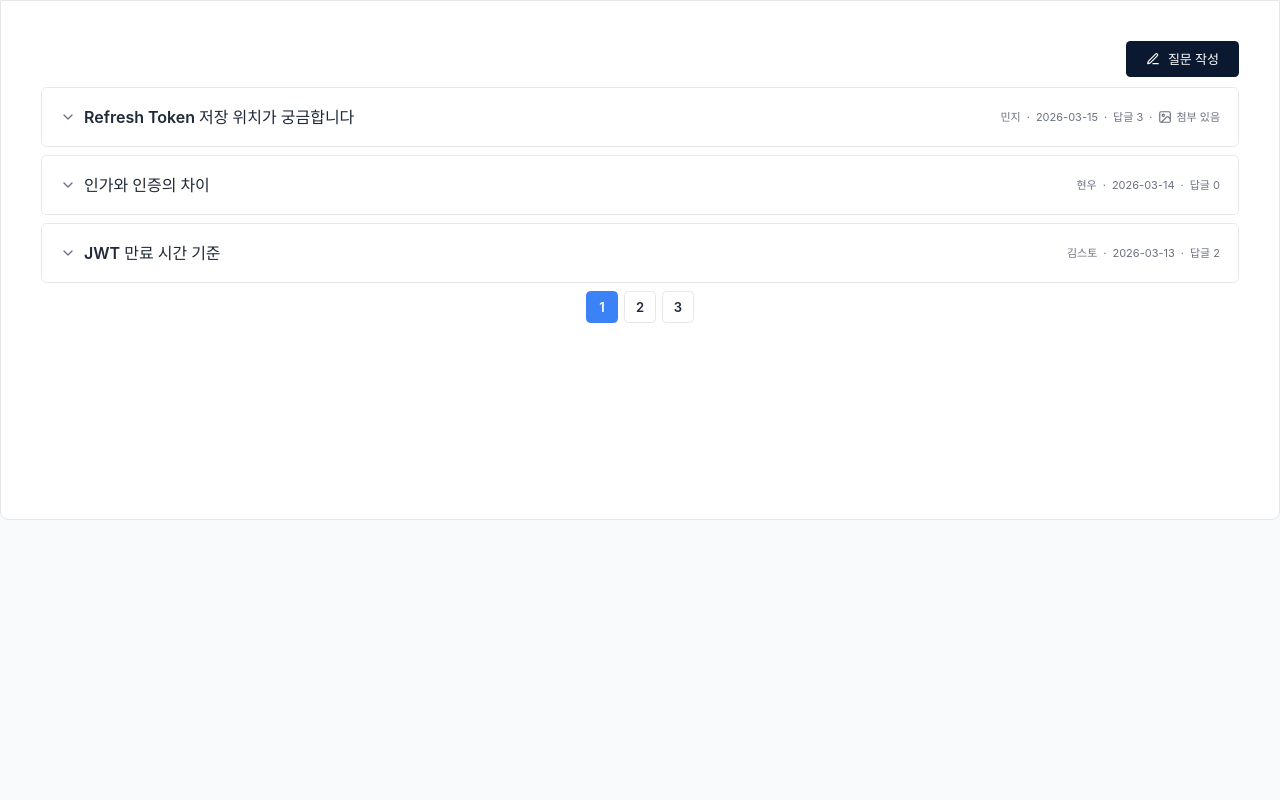
Test case: QuestionsPage › 본인 답글을 인라인으로 수정한다
The image size is (1280, 800).
Click the button "Refresh Token 저장 위치가 궁금합니다 민지 · 2026-03-15 · 답글 3 · 첨부 있음" at [219, 117], box [42,88,1238,146]
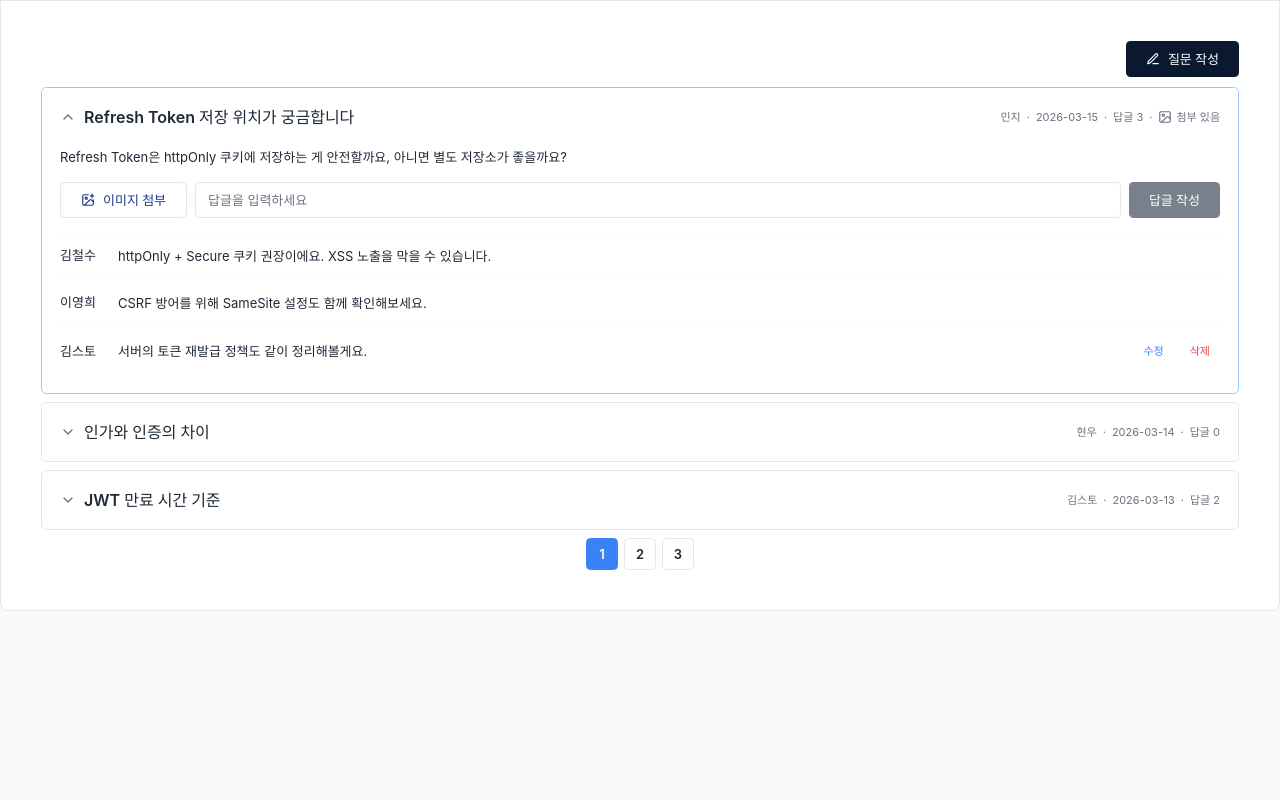
Click the button "수정" at [1154, 351], box [1134,339,1174,363]
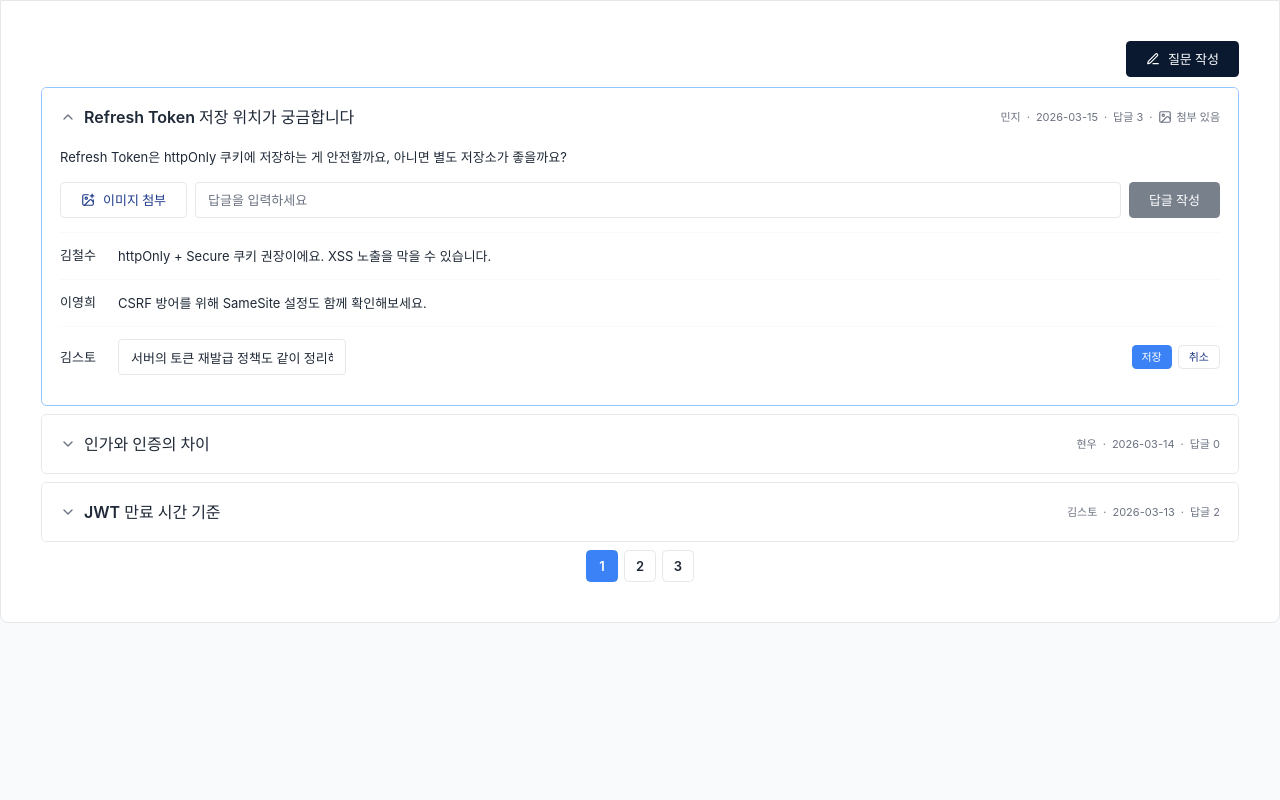
Replace the text in the field named "김스토 답글 수정 내용" with "토큰 재발급 정책까지 정리했습니다." at [232, 357], box [118,339,346,375]
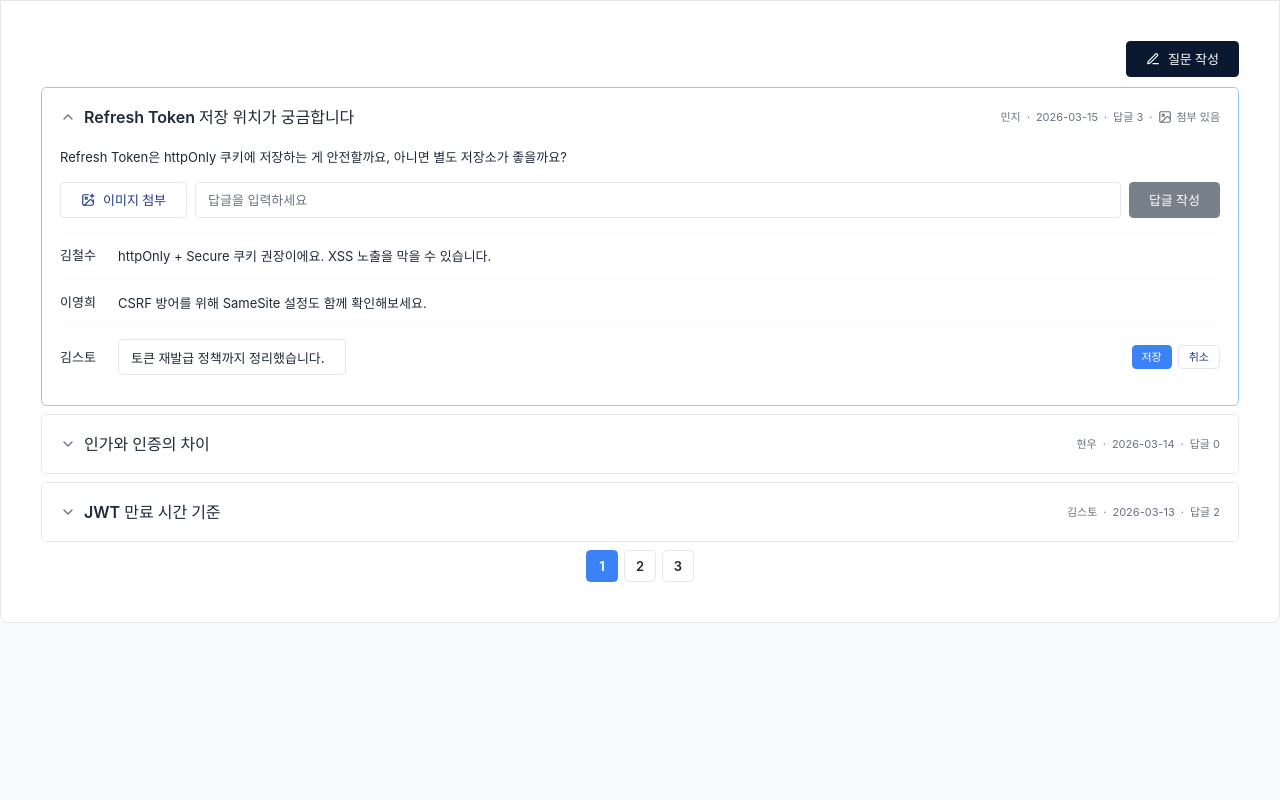
Click the button "저장" at [1152, 357], box [1132,345,1172,369]
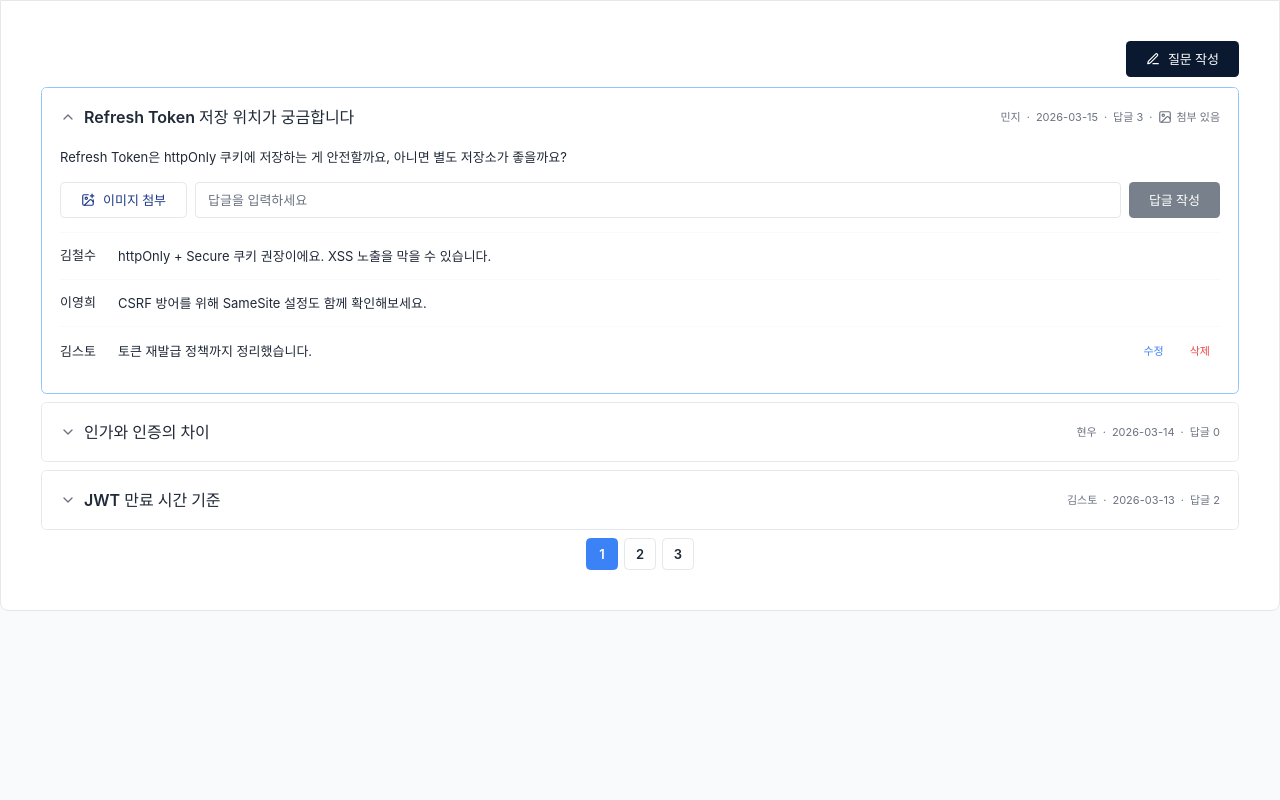
expect the text "토큰 재발급 정책까지 정리했습니다." is shown: met, box [118,343,312,359]
